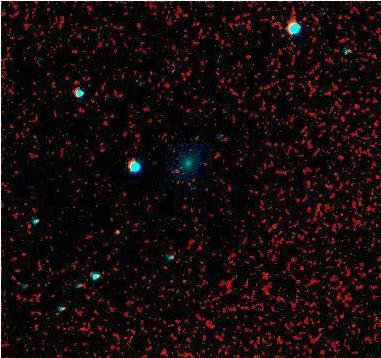star: (99, 217, 129, 247)
